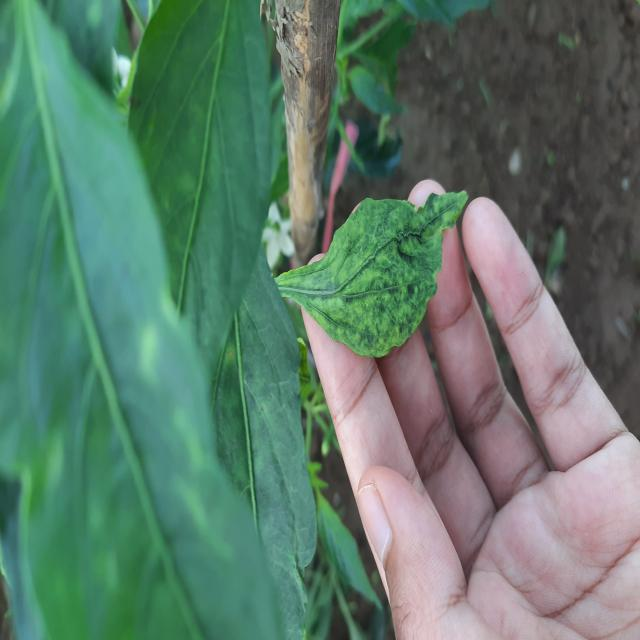thrips: (266, 189, 474, 361)
